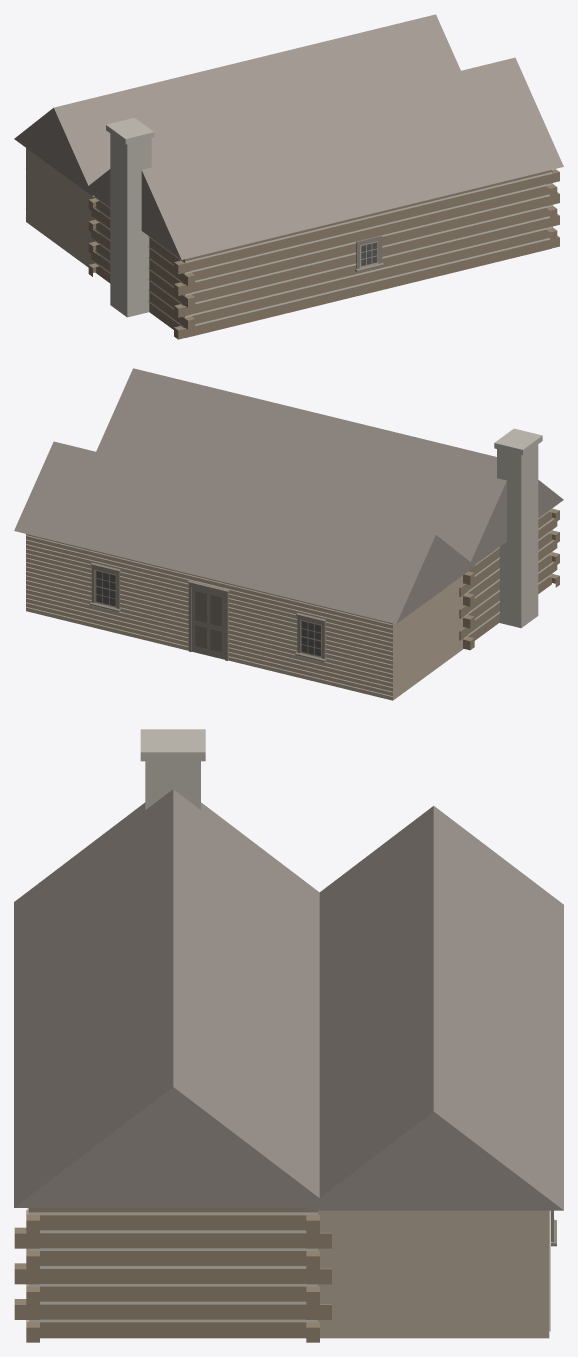
File: mansion_house__log_frame_1833.glb
The picture shows the model from 3 angles, top to bottom: view 1: azimuth 30°, elevation 25°; view 2: azimuth 150°, elevation 25°; view 3: azimuth 270°, elevation 25°; orthographic projection. The views are drawn at different scales.
Parts seen in each view (by area): view 1: mansion_house__log_frame_1833; view 2: mansion_house__log_frame_1833; view 3: mansion_house__log_frame_1833.
Part boxes in pixels (box(x1,y1,x2,y2)): mansion_house__log_frame_1833: box(14, 14, 563, 339); mansion_house__log_frame_1833: box(14, 368, 563, 700); mansion_house__log_frame_1833: box(14, 729, 563, 1342).
Bounding box in the file's own units: 13.07 × 5.63 × 9.5.
